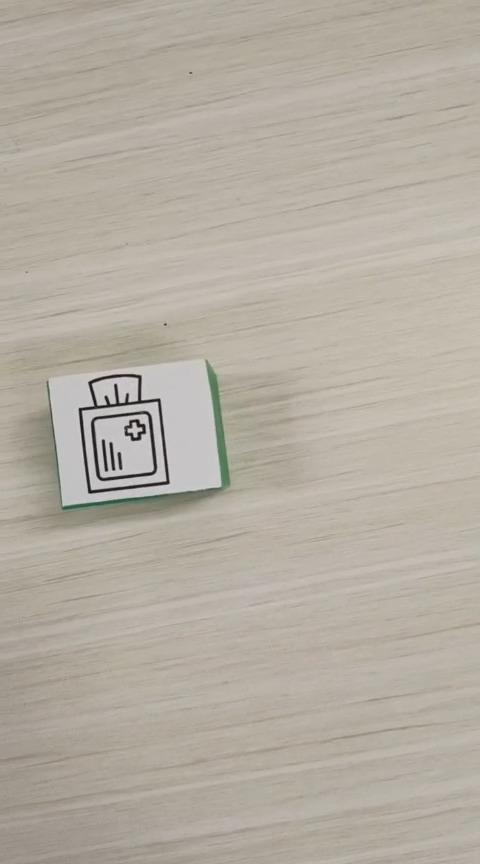Gauze: (45, 356, 230, 510)
